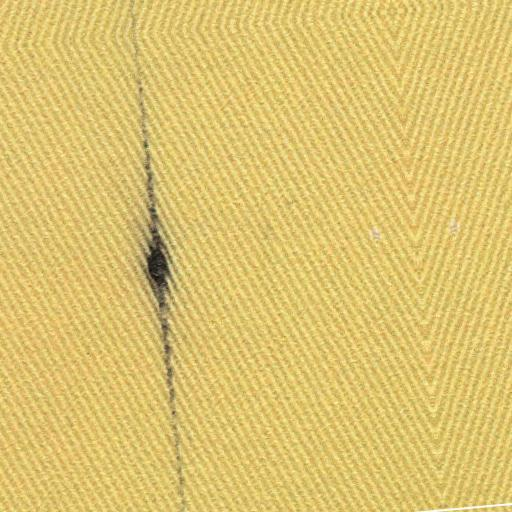stain: (122, 1, 195, 512)
